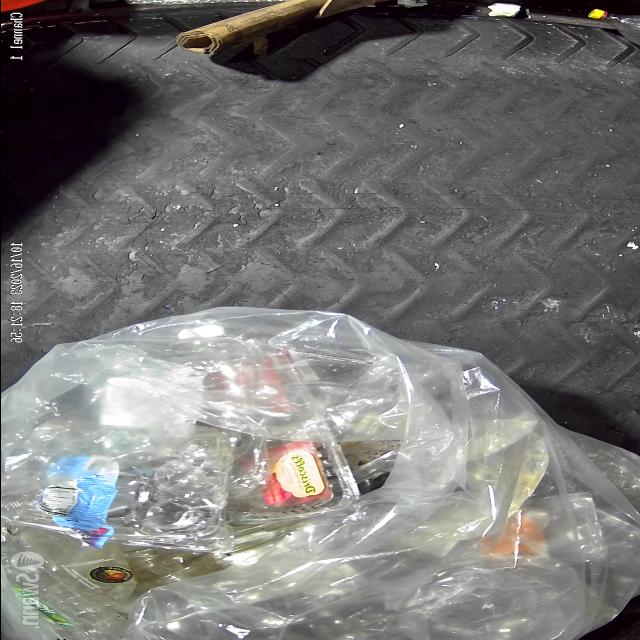plastic_bottle: (588, 8, 640, 46)
